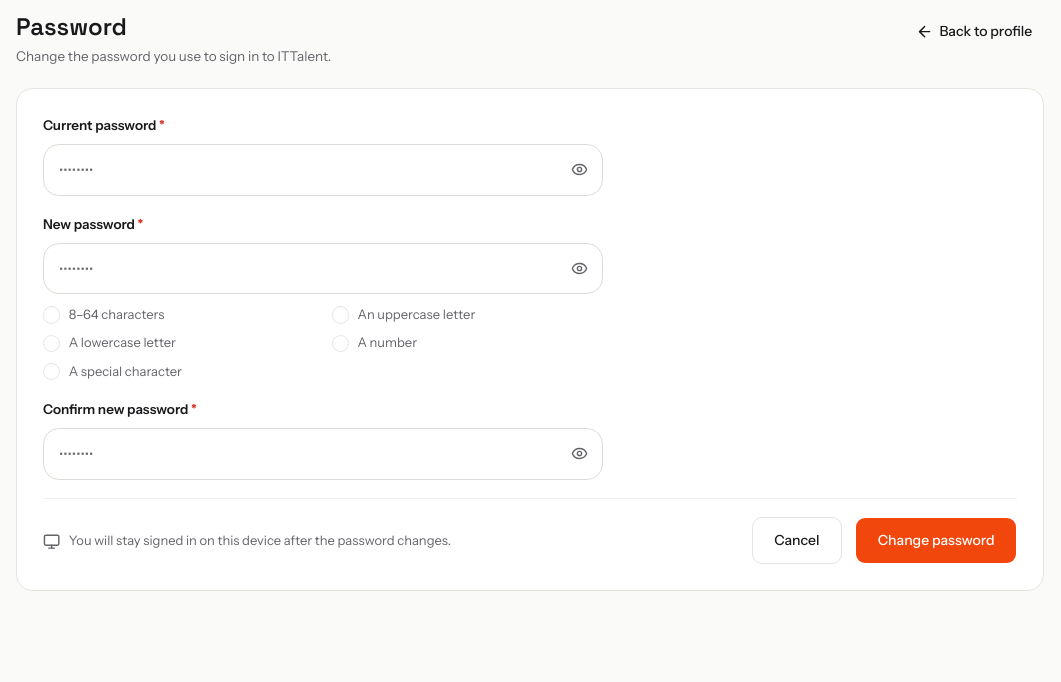
Scenario: ProfilePage › validates password confirmation and policy before mutation
Expected: the password field labelled "New password *" is shown, [43,243,603,294]
Expected: the password field labelled "Confirm new password *" is shown, [43,428,603,480]
Type "Old123!a" into the password field labelled "Current password *" at x=323, y=170, box [43,144,603,196]
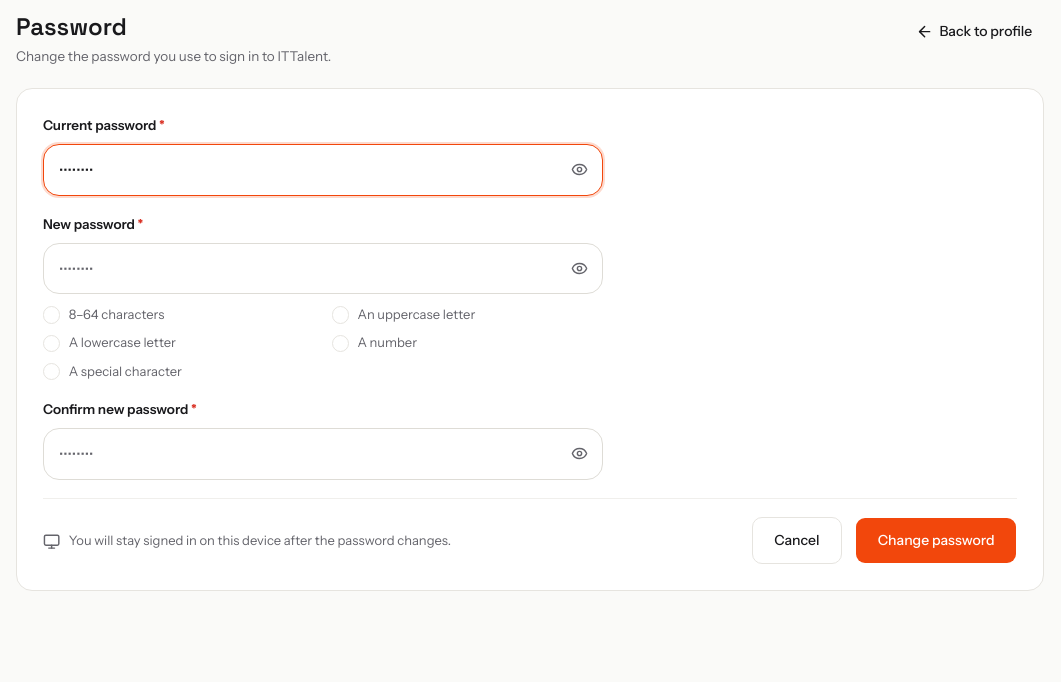
Type "weak" into the password field labelled "New password *" at x=323, y=268, box [43,243,603,294]
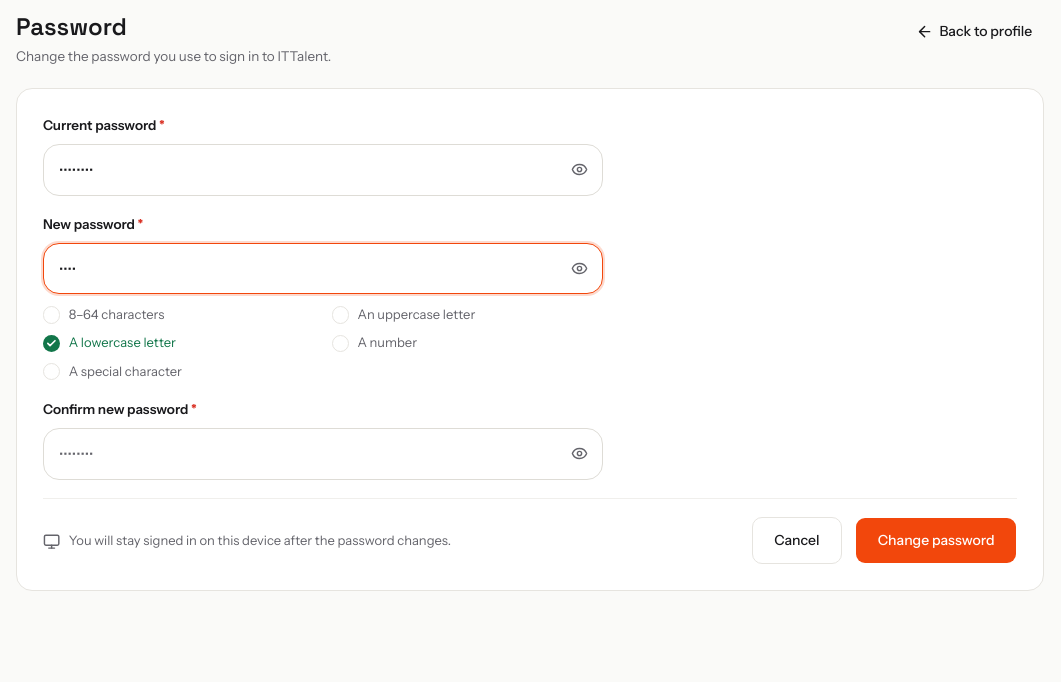
Type "different" into the password field labelled "Confirm new password *" at x=323, y=454, box [43,428,603,480]
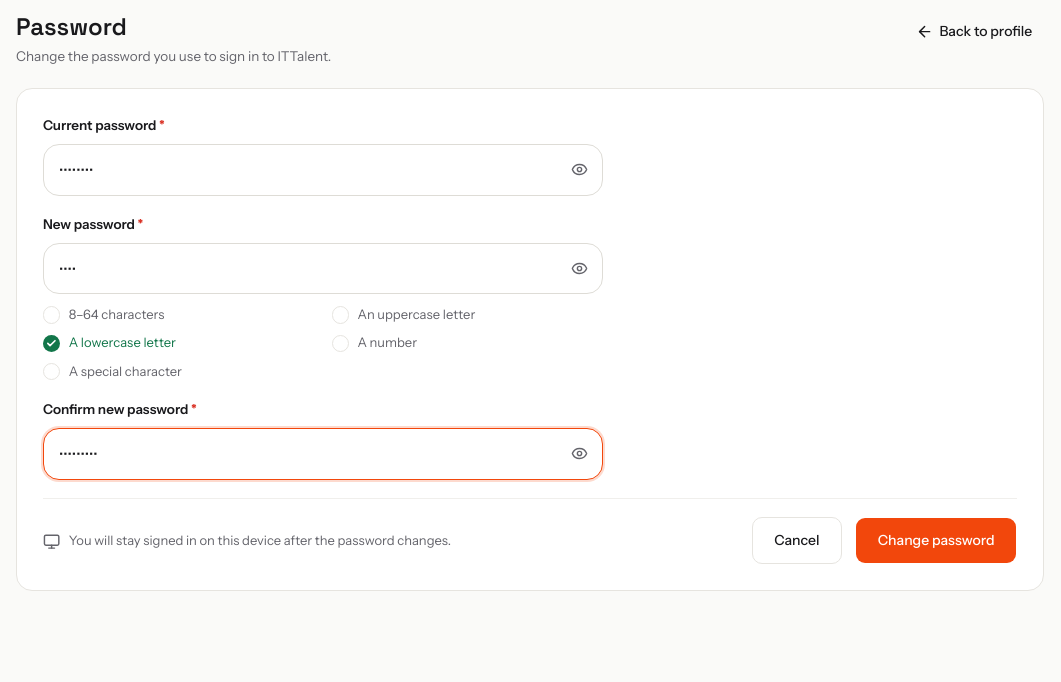
Click the button "Change password" at x=936, y=540, box [855,517,1017,564]
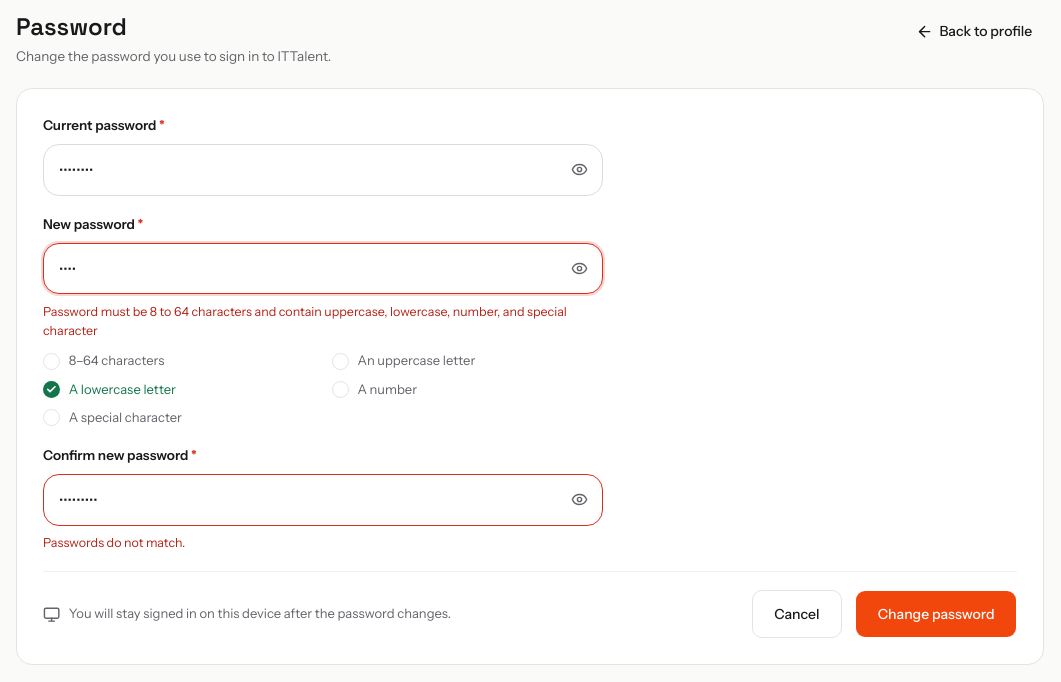
Expected: the list item "An uppercase letter" is shown, [332,352,475,370]
Now the text "Passwords do not match." is shown, box [43,536,185,550]
